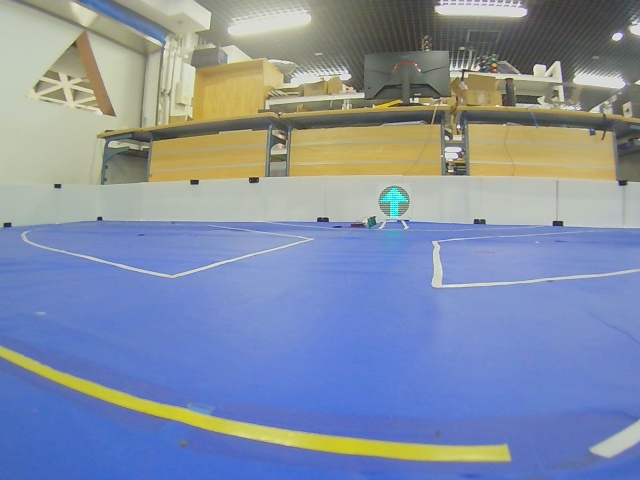straight_green: (379, 186, 410, 218)
